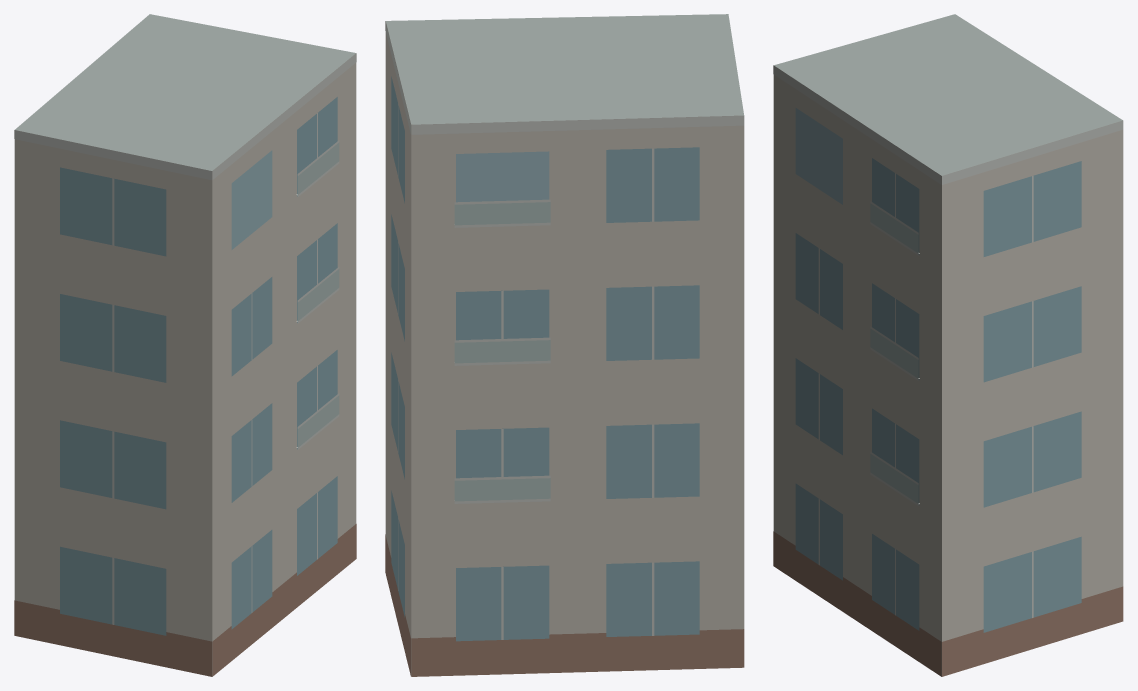
File: survey-upis-32462323.glb
3 views of the same model, side by side, from view 1: azimuth 30°, elevation 25°; view 2: azimuth 150°, elevation 25°; view 3: azimuth 270°, elevation 25° (orthographic). The views are drawn at different scales.
Visible parts, largest first — view 1: survey-upis-32462323.tmp; view 2: survey-upis-32462323.tmp; view 3: survey-upis-32462323.tmp.
Boxes of the visible parts, x1=… form: survey-upis-32462323.tmp: x1=14, y1=14, x2=356, y2=676; survey-upis-32462323.tmp: x1=385, y1=14, x2=744, y2=676; survey-upis-32462323.tmp: x1=773, y1=14, x2=1123, y2=676.
Size of the model in its own units: 9.27 by 13.35 by 8.46.
